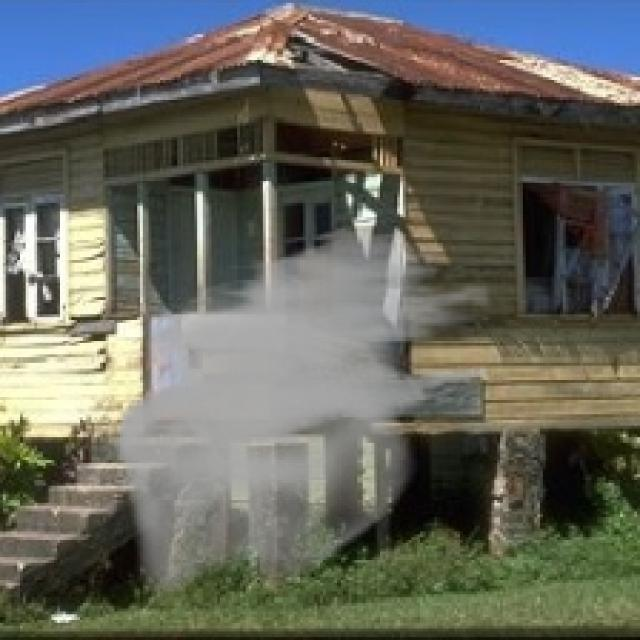smoke: (114, 223, 492, 594)
